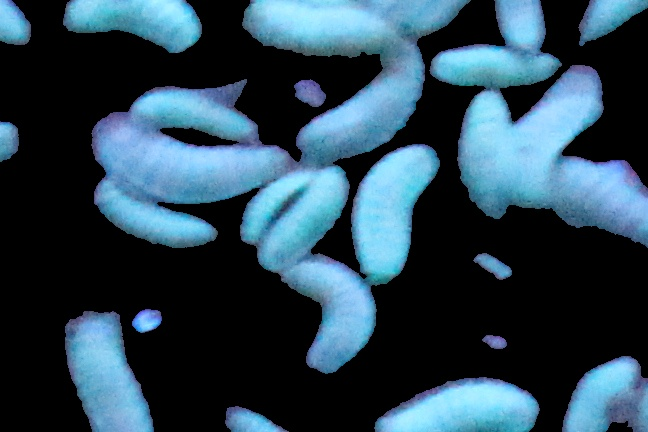larvae: (87, 112, 289, 196), (299, 44, 425, 159), (350, 139, 444, 293), (508, 70, 600, 206), (279, 252, 380, 373), (64, 311, 156, 432), (261, 166, 349, 269), (559, 155, 648, 246), (378, 383, 541, 432), (94, 183, 217, 247), (124, 89, 259, 147), (62, 1, 201, 56), (458, 88, 512, 221), (244, 2, 391, 50), (564, 354, 642, 432), (239, 164, 315, 244), (430, 45, 563, 88), (490, 1, 545, 53)
